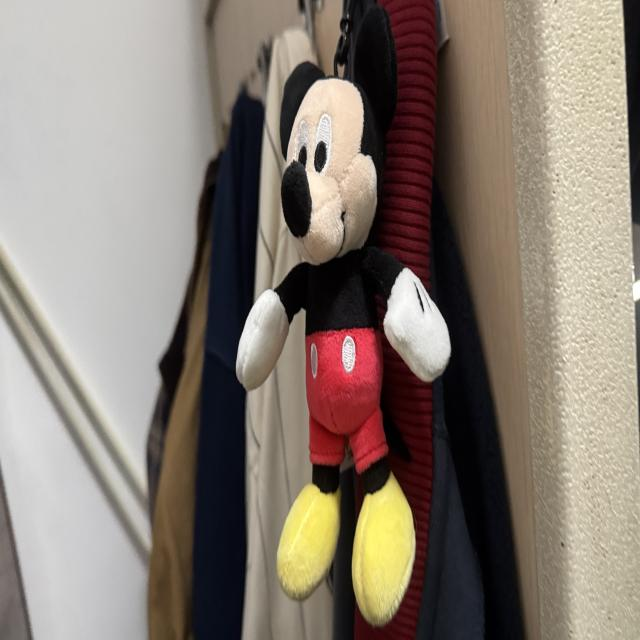mickey: (237, 6, 450, 625)
